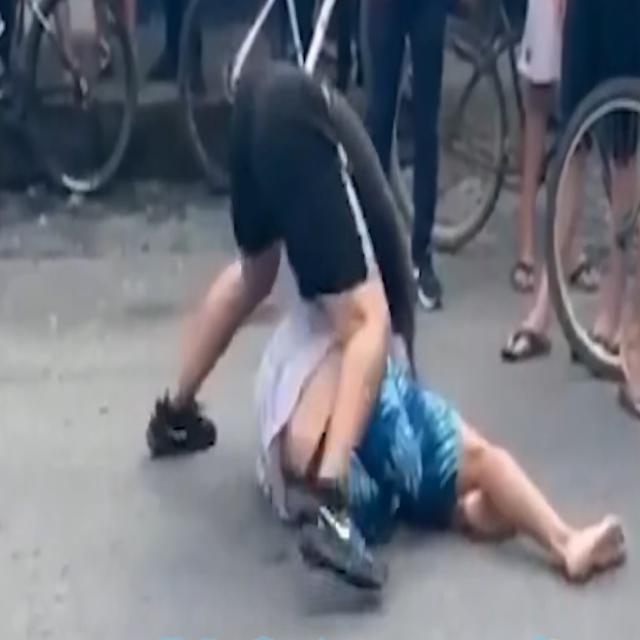fight: (144, 76, 423, 611)
